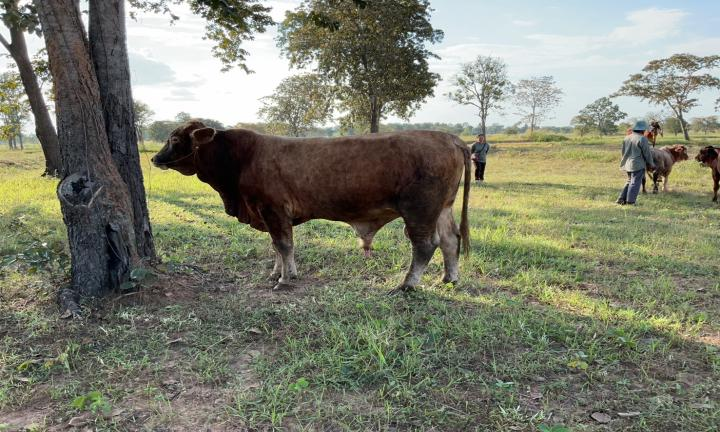Charolais: (152, 120, 471, 289)
